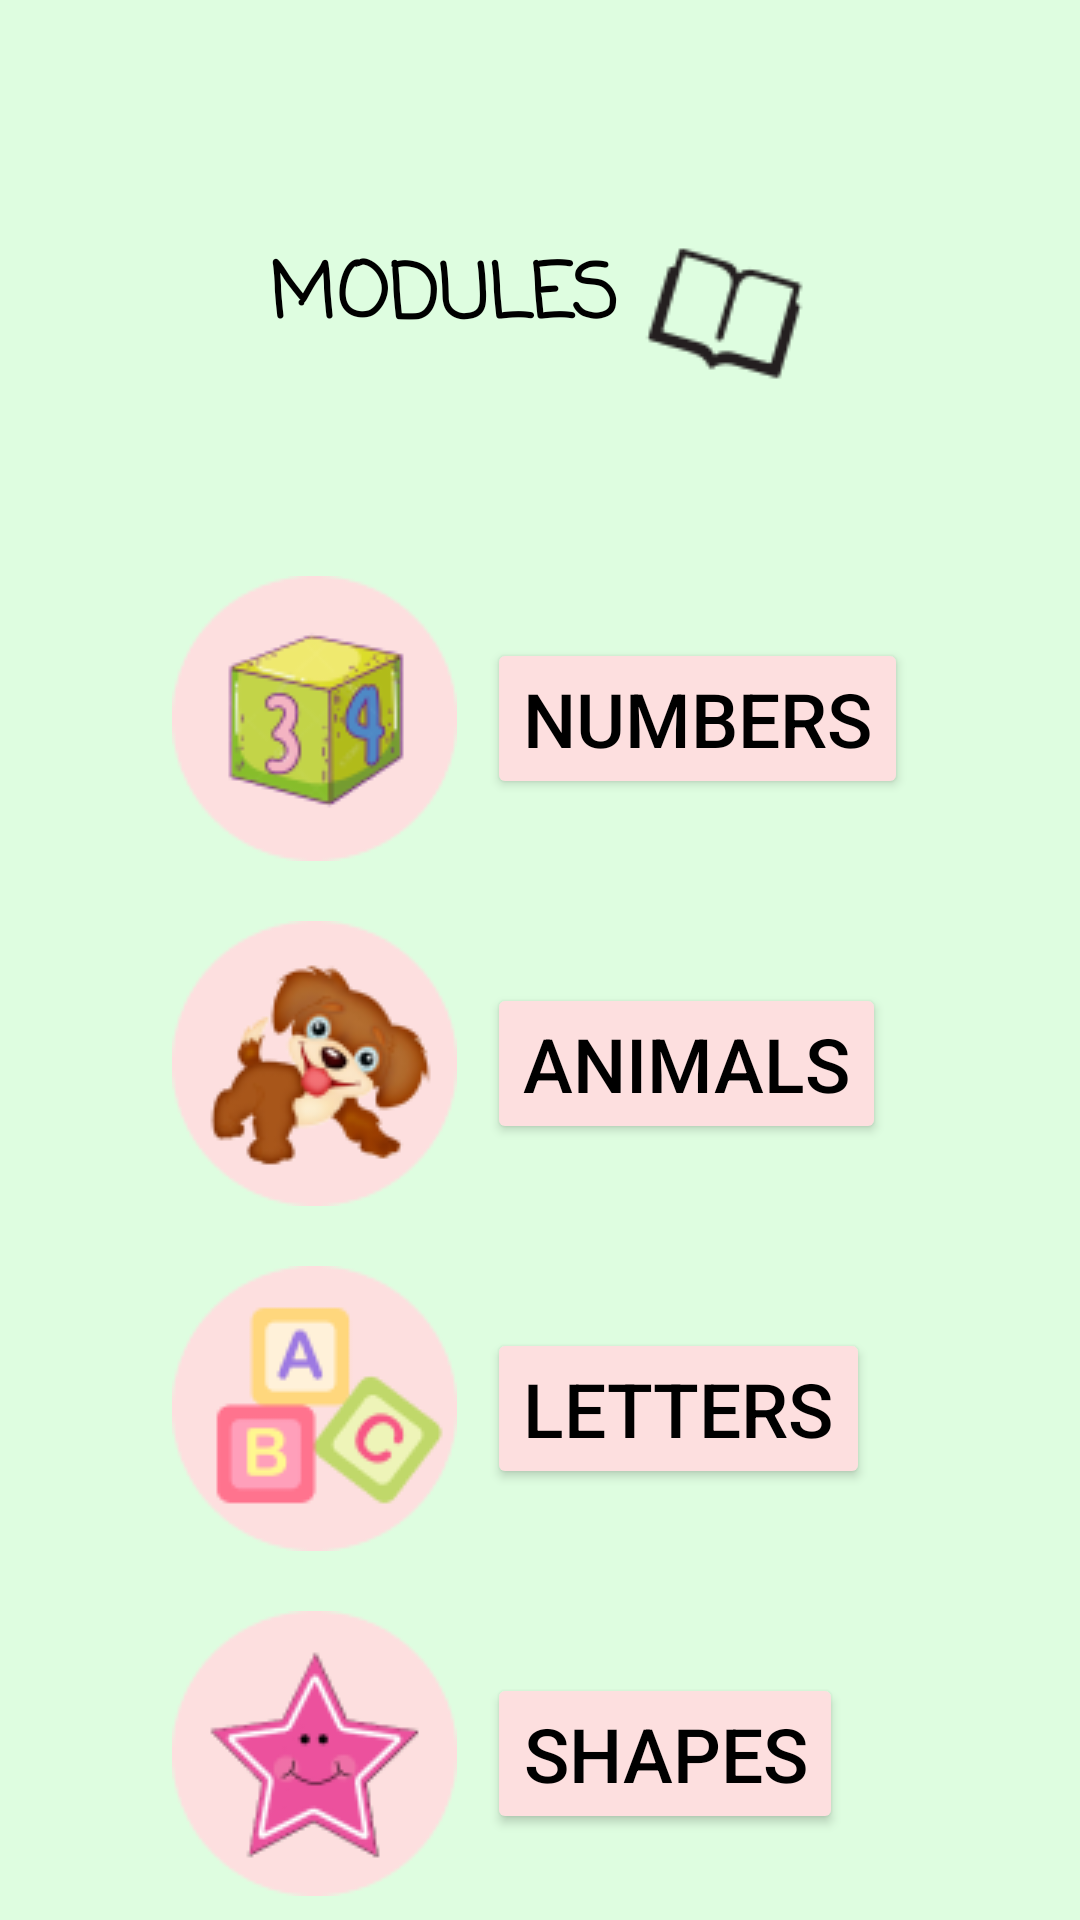

Screen size 1080×1920. Icon name, then its box in pixels as (x1, y1, x2, y2):
book: (647, 248, 803, 379)
cube: (172, 576, 457, 861)
dog: (172, 921, 457, 1206)
star: (172, 1611, 457, 1896)
